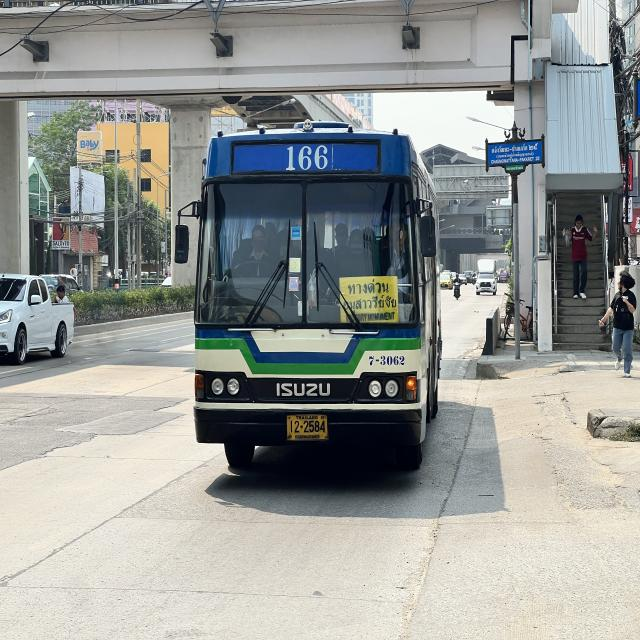BMTA-bus: (192, 130, 442, 472)
Bus-Line-Number: (288, 144, 334, 172)
Destination-Sign-Normal-Expressway: (336, 274, 403, 326)
